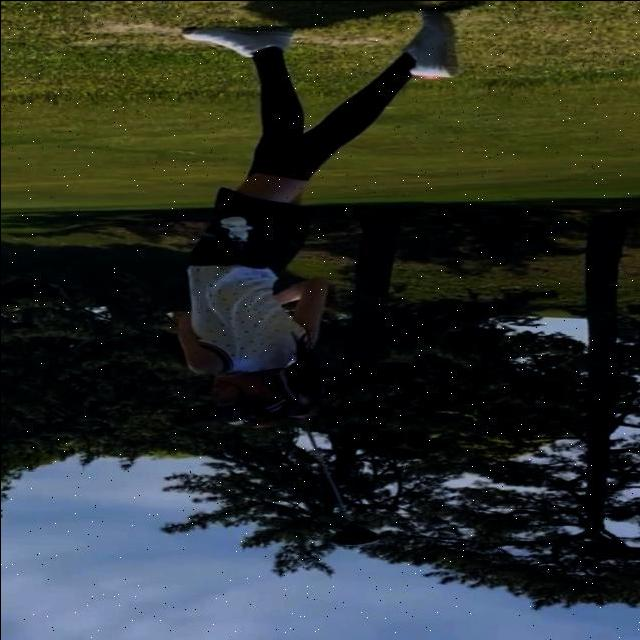golf club-handle: (300, 418, 377, 547)
golf club-head: (332, 526, 377, 547)
